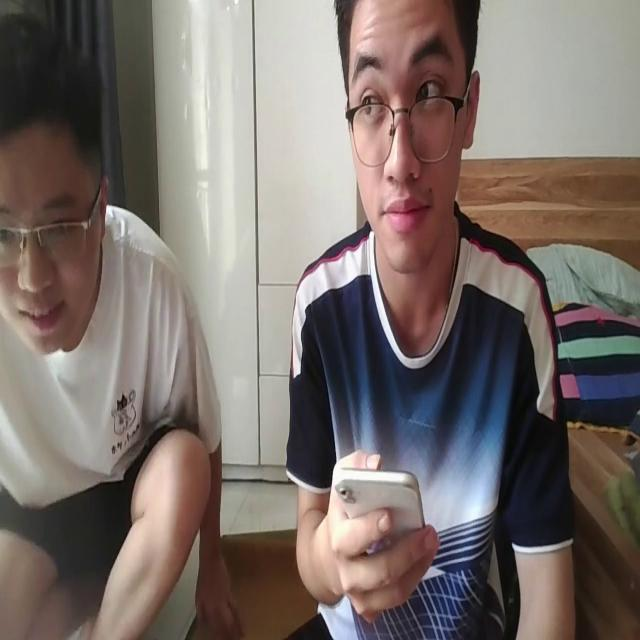extra_person: (0, 4, 240, 640)
phone: (330, 456, 428, 544)
student: (286, 3, 577, 640)
